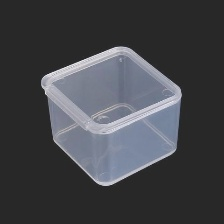plastic_box: (33, 40, 191, 192)
